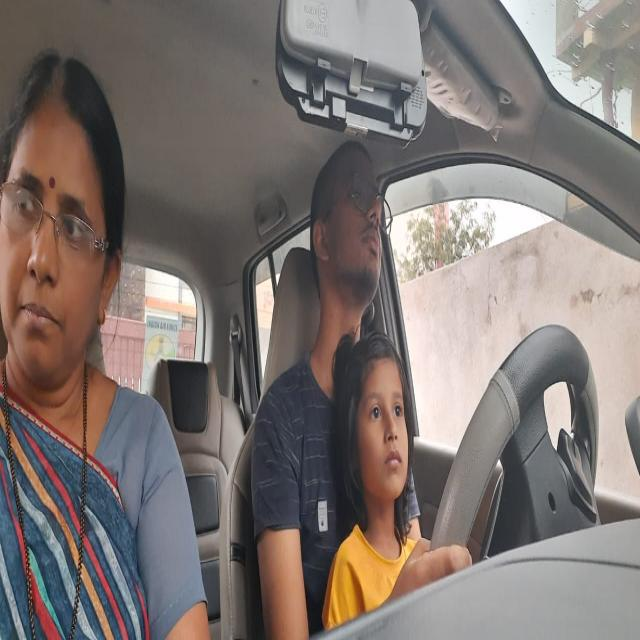child: (338, 333, 416, 522)
person: (4, 51, 129, 392), (310, 132, 391, 320)
